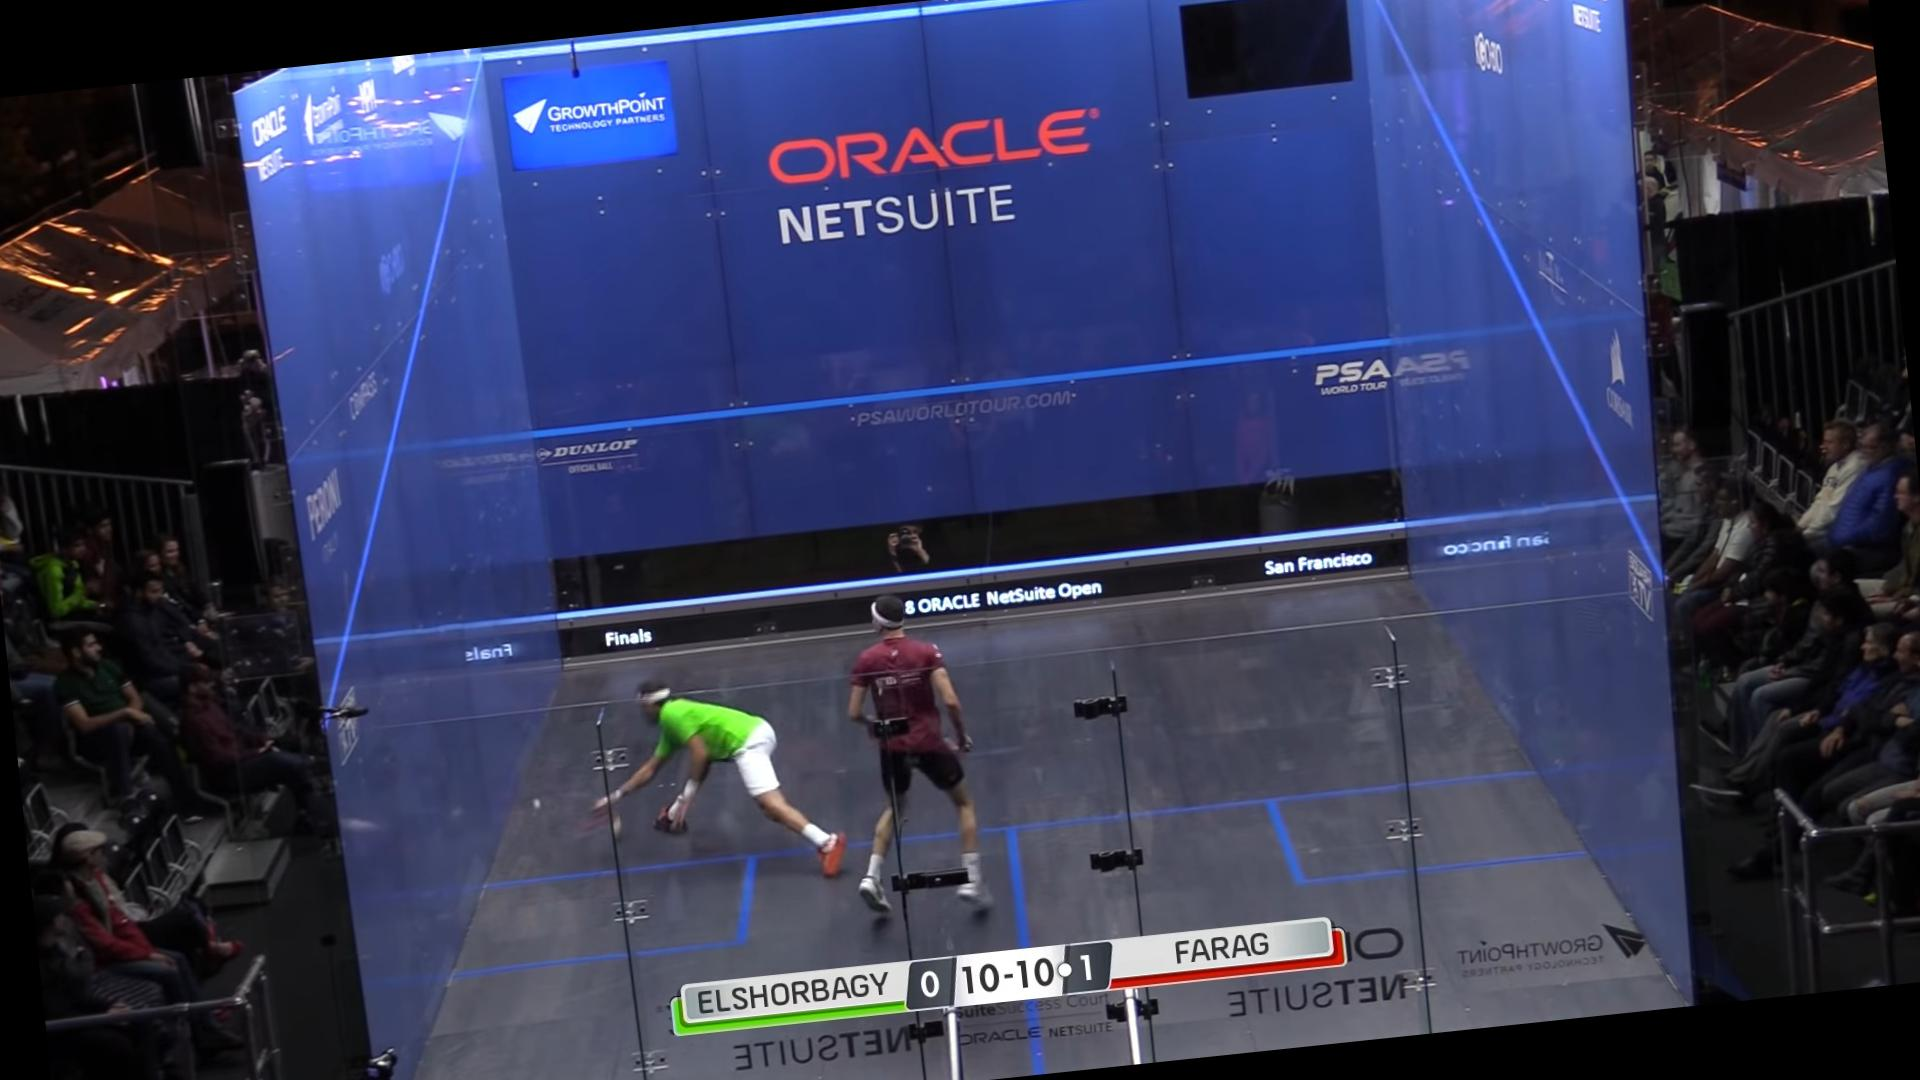Squash-Ball: (529, 795, 553, 815)
